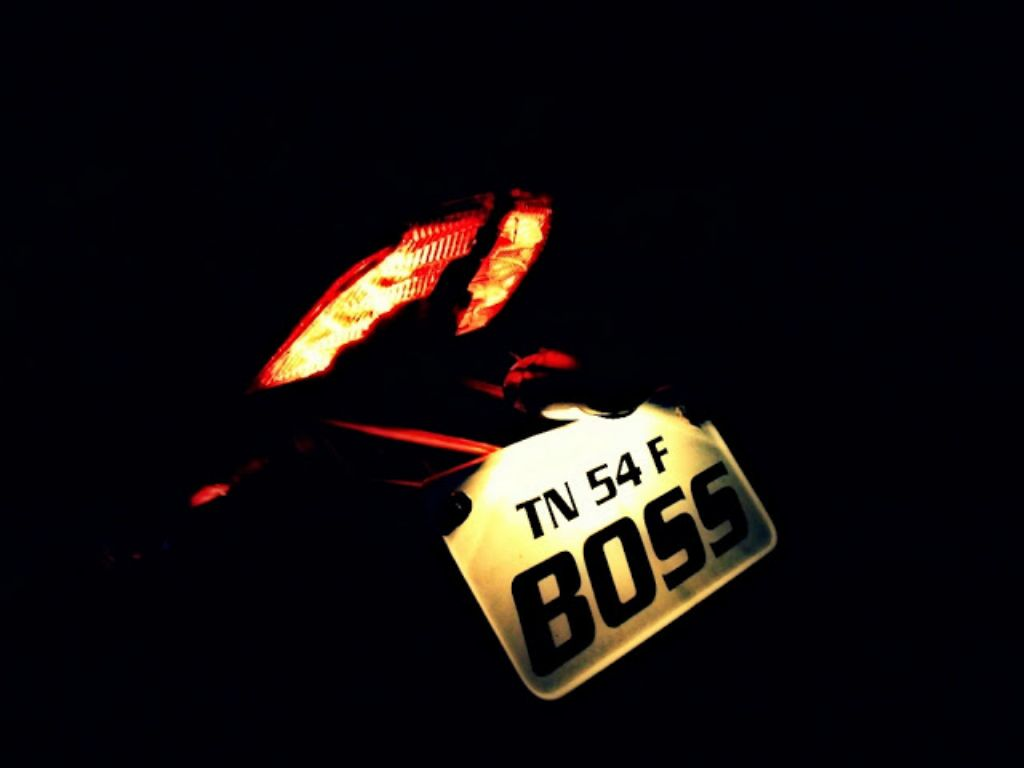number_plate: (407, 378, 830, 705)
